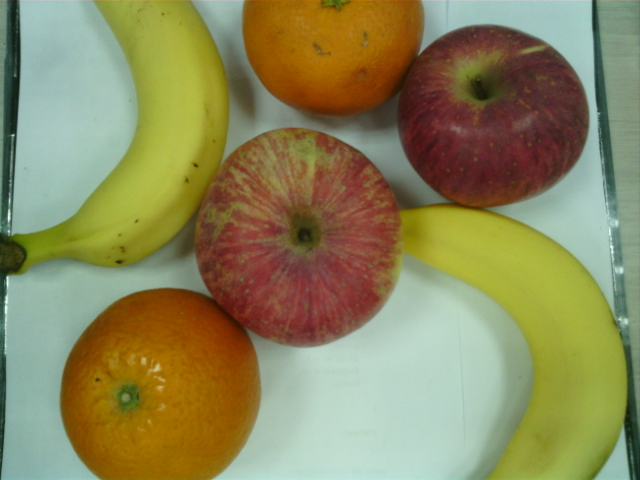normal_apple: (194, 127, 403, 347), (400, 25, 591, 207)
normal_banana: (1, 1, 231, 271), (402, 204, 626, 480)
normal_orange: (59, 287, 261, 480), (242, 1, 425, 111)
